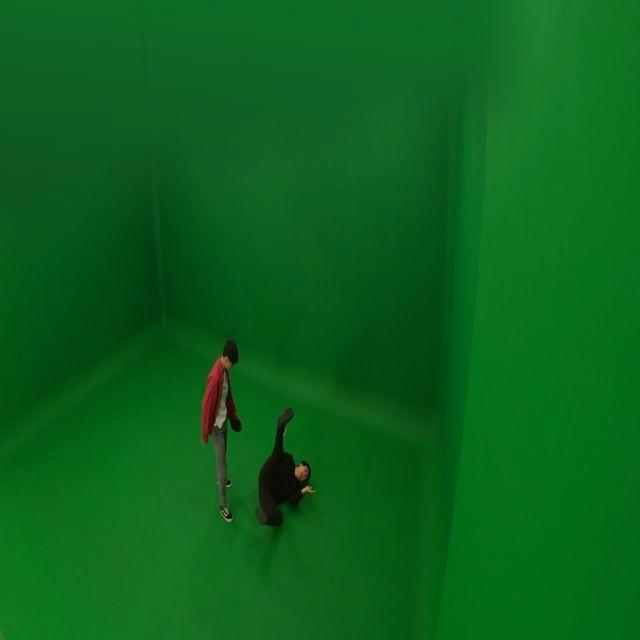fight: (198, 332, 316, 532)
